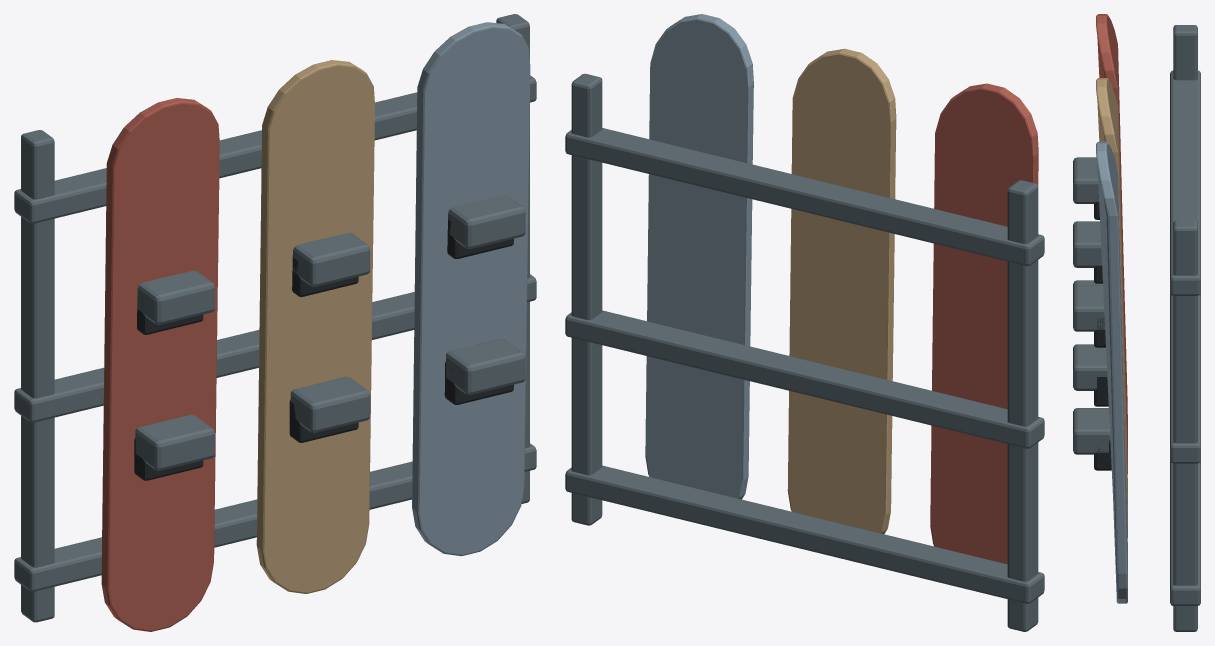
The model's file is resort_snowboard_rack.glb.
3 renders of one model, left to right at view 1: azimuth 30°, elevation 25°; view 2: azimuth 150°, elevation 25°; view 3: azimuth 270°, elevation 25°, orthographic. The views are drawn at different scales.
Parts seen in each view (by area): view 1: resort_snowboard_rack; view 2: resort_snowboard_rack; view 3: resort_snowboard_rack.
Part boxes in pixels (left/top/right/bottom): resort_snowboard_rack: left=14, top=14, right=536, bottom=631; resort_snowboard_rack: left=565, top=14, right=1044, bottom=631; resort_snowboard_rack: left=1073, top=14, right=1200, bottom=631.
Size of the model in its own units: 1.6 by 1.61 by 0.415.
